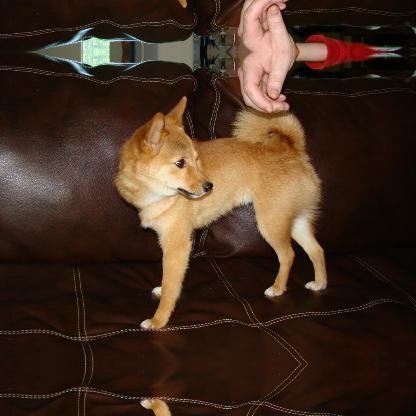Dog: (112, 95, 328, 328)
